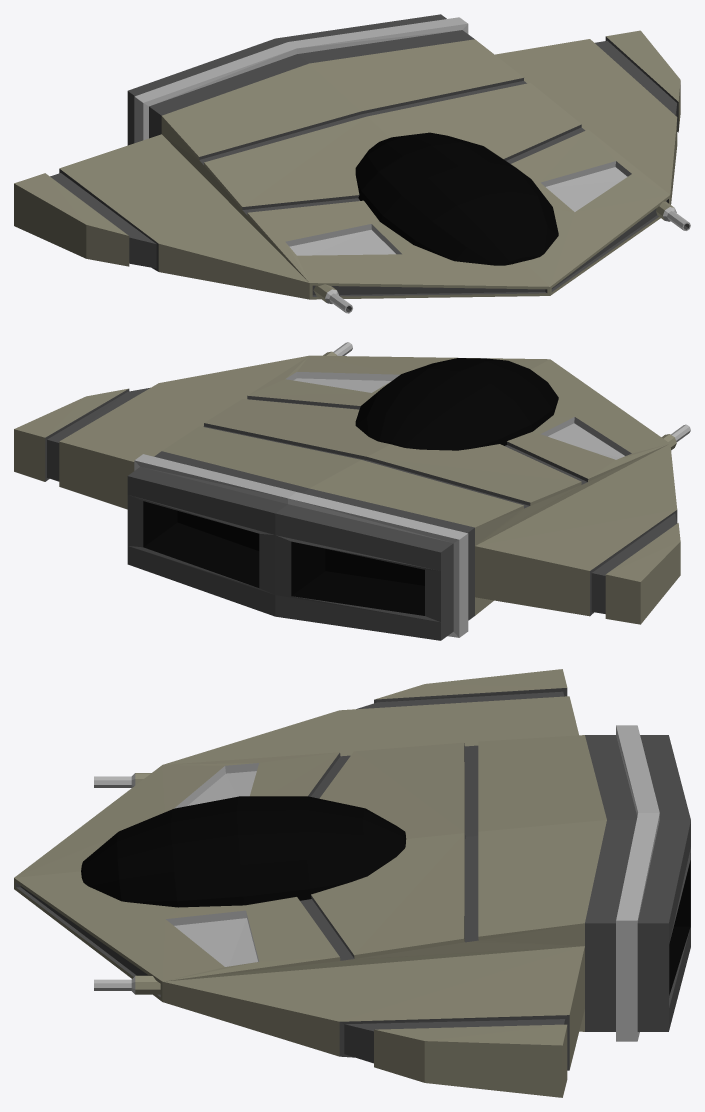
Rendered from Spaceship2_3.fbx.
The picture shows the model from 3 angles, top to bottom: view 1: azimuth 30°, elevation 25°; view 2: azimuth 150°, elevation 25°; view 3: azimuth 270°, elevation 25°; orthographic projection. The views are drawn at different scales.
Visible parts, largest first — view 1: Spaceship2_3; view 2: Spaceship2_3; view 3: Spaceship2_3.
Part boxes in pixels (box(x1,y1,x2,y2)): Spaceship2_3: box(14, 14, 690, 313); Spaceship2_3: box(14, 342, 690, 640); Spaceship2_3: box(14, 669, 690, 1097).
Bounding box in the file's own units: 977 × 174 × 742.
